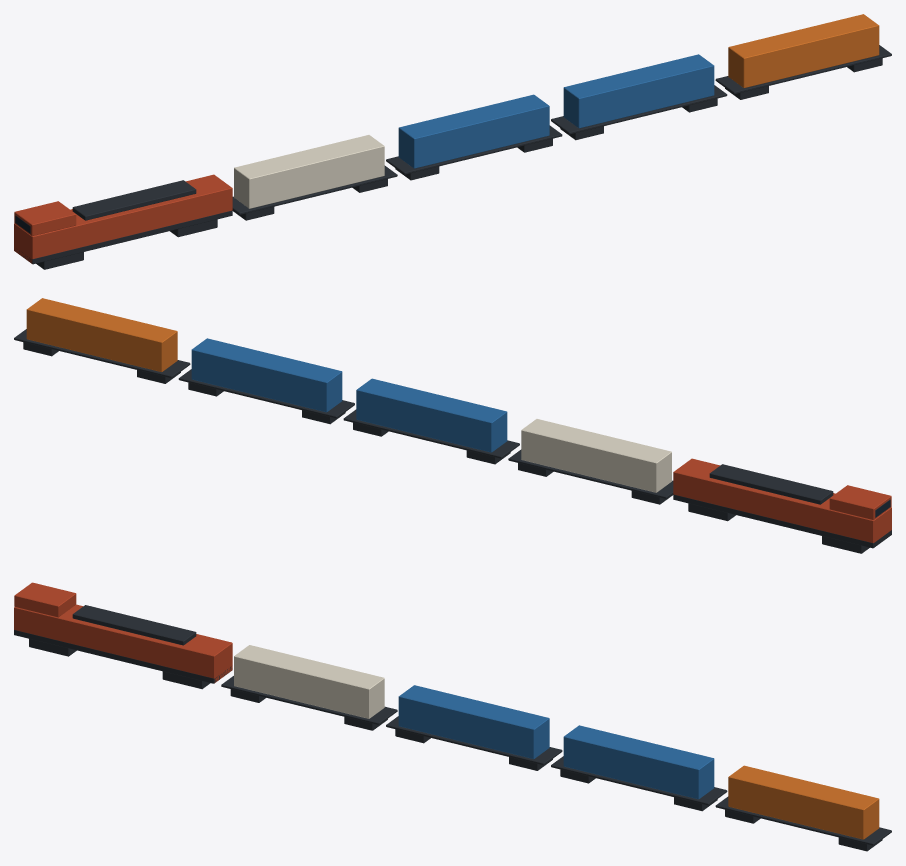
Rendered from tren.glb.
3 views of the same model, one above another, from view 1: azimuth 30°, elevation 25°; view 2: azimuth 150°, elevation 25°; view 3: azimuth 330°, elevation 25° (orthographic).
Visible parts, largest first — view 1: tren; view 2: tren; view 3: tren.
Part boxes in pixels (x1,y1,x2,y2): tren: [14, 14, 891, 269]; tren: [14, 298, 891, 553]; tren: [14, 582, 891, 851].
Bounding box in the file's own units: 77.22 × 4.25 × 2.92.
